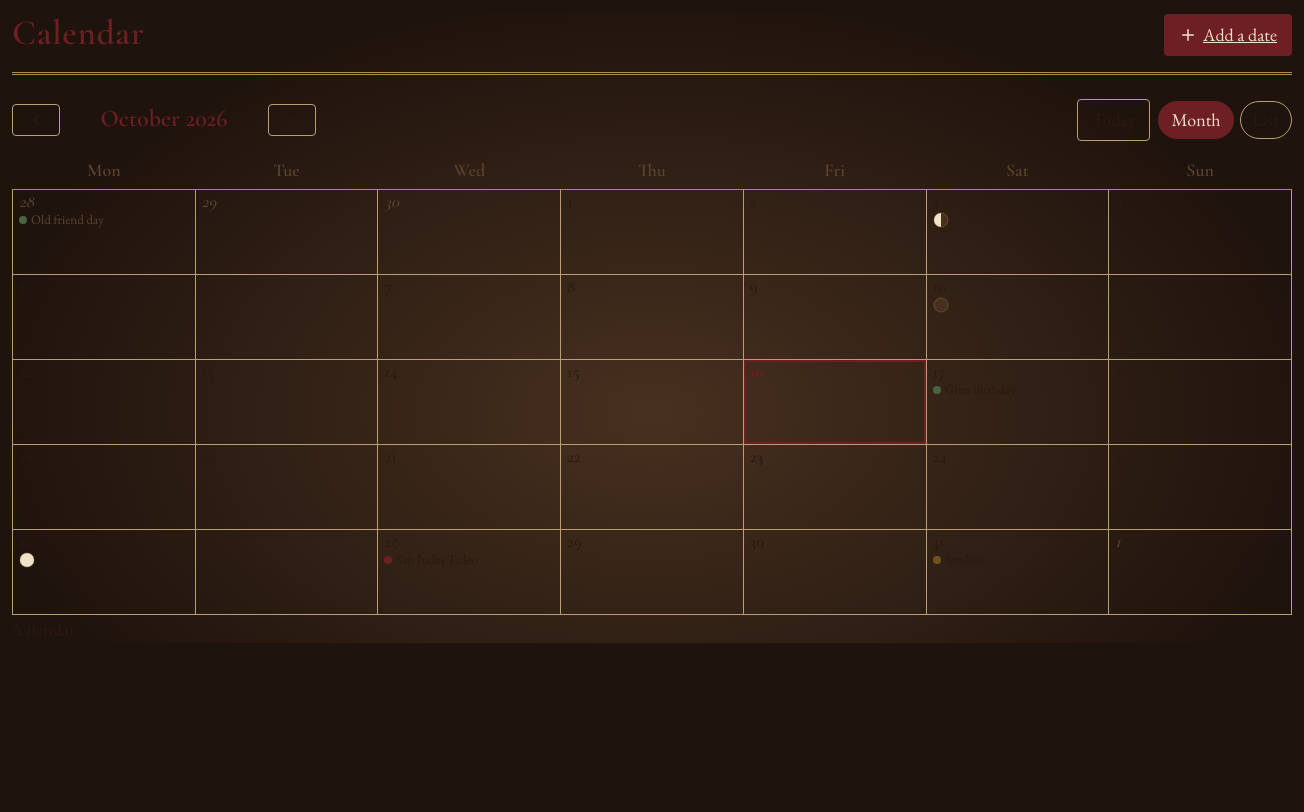
it: Calendar › lists the month in date order with the weekday
The image size is (1304, 812).
Click the button "List": (1266, 120) [1240,101,1292,139]
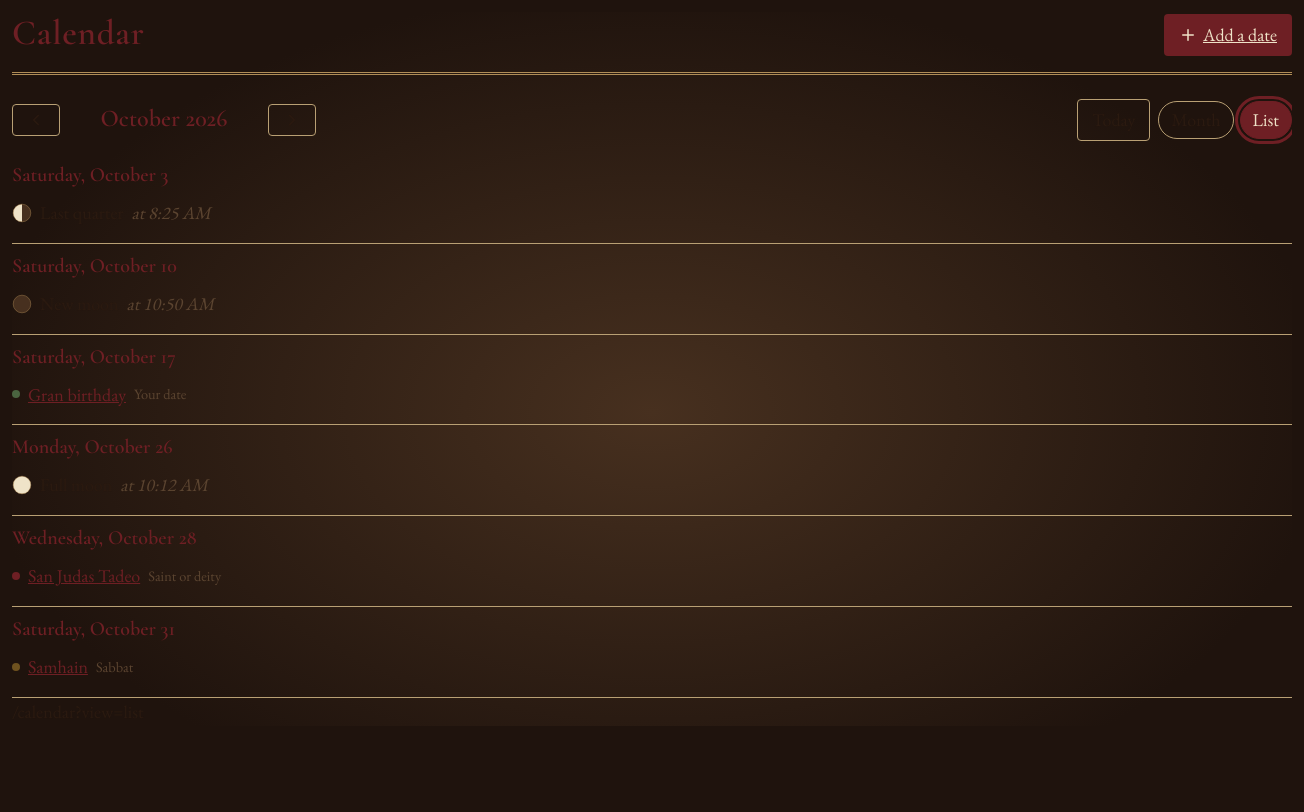
Now the headings read "Saturday, October 3", "Saturday, October 10", "Saturday, October 17", "Monday, October 26", "Wednesday, October 28", "Saturday, October 31", in this order, box [12,163,168,187]; [12,254,177,278]; [12,344,176,368]; [12,435,173,459]; [12,526,197,550]; [12,617,175,641]
Now the button "Old friend day" is gone
